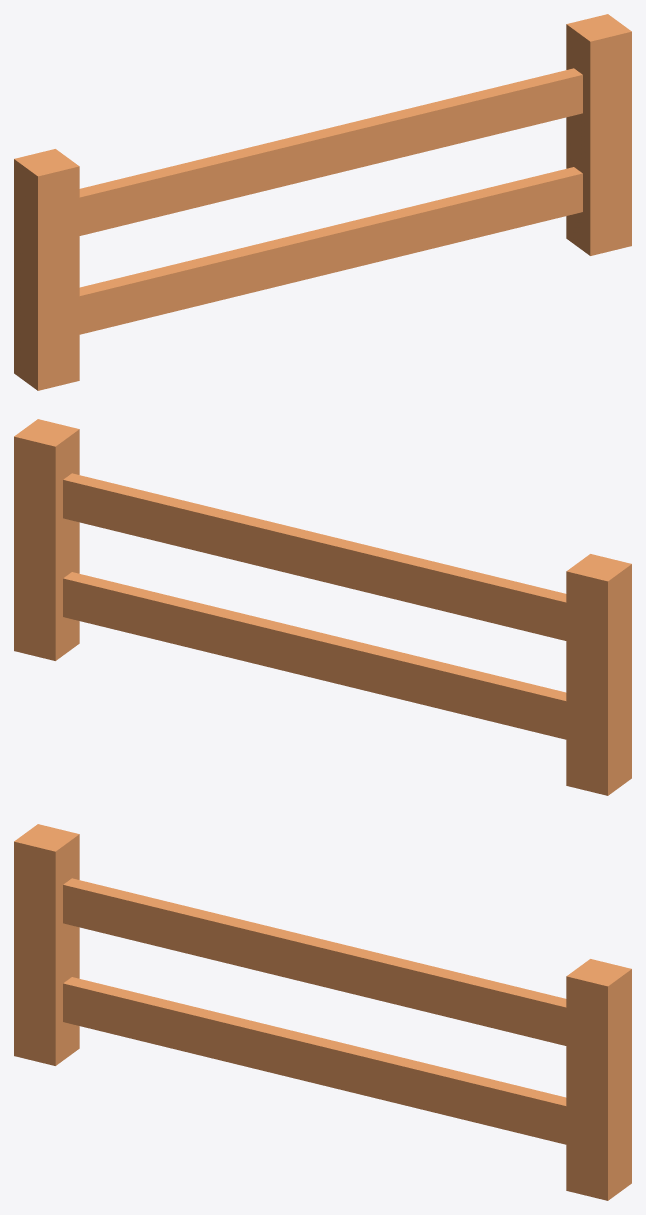
File: fence.obj
3 renders of one model, top to bottom at view 1: azimuth 30°, elevation 25°; view 2: azimuth 150°, elevation 25°; view 3: azimuth 330°, elevation 25°, orthographic.
Parts seen in each view (by area): view 1: fence; view 2: fence; view 3: fence.
Part boxes in pixels (bbox=[...]): fence: bbox=[14, 14, 631, 390]; fence: bbox=[14, 419, 631, 795]; fence: bbox=[14, 824, 631, 1200].
Bounding box in the file's own units: 10 × 3.45 × 0.7.
